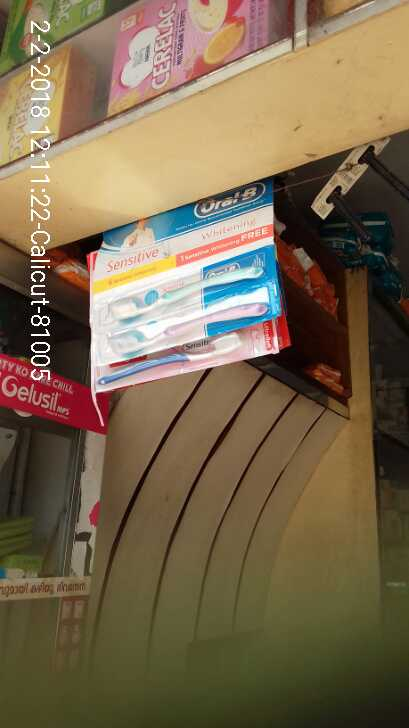oralb: (87, 254, 275, 359)
